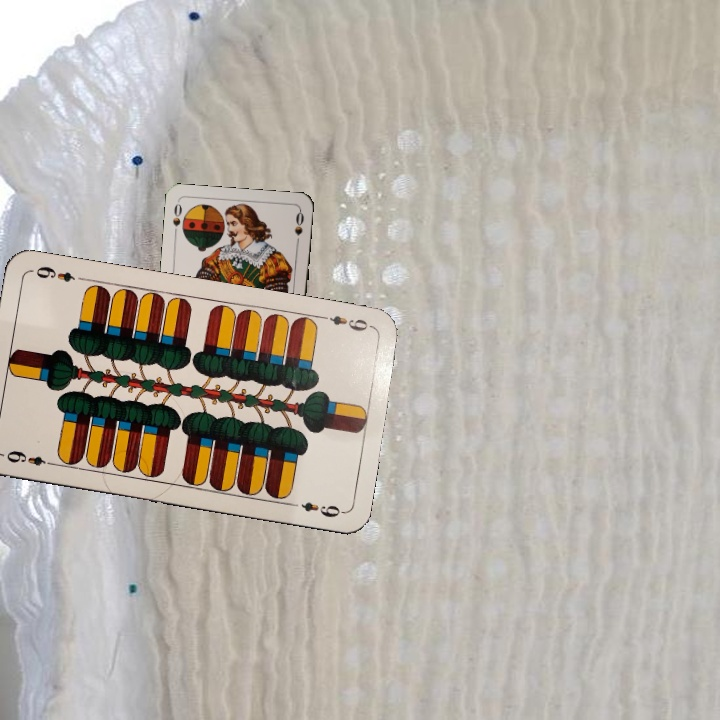E9: (316, 311, 375, 334), (2, 446, 58, 469)
SO: (168, 200, 184, 239)
